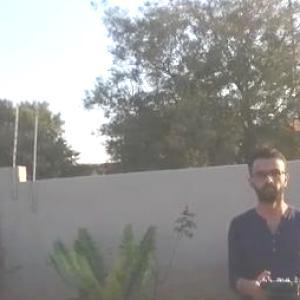follow: (223, 142, 300, 299)
